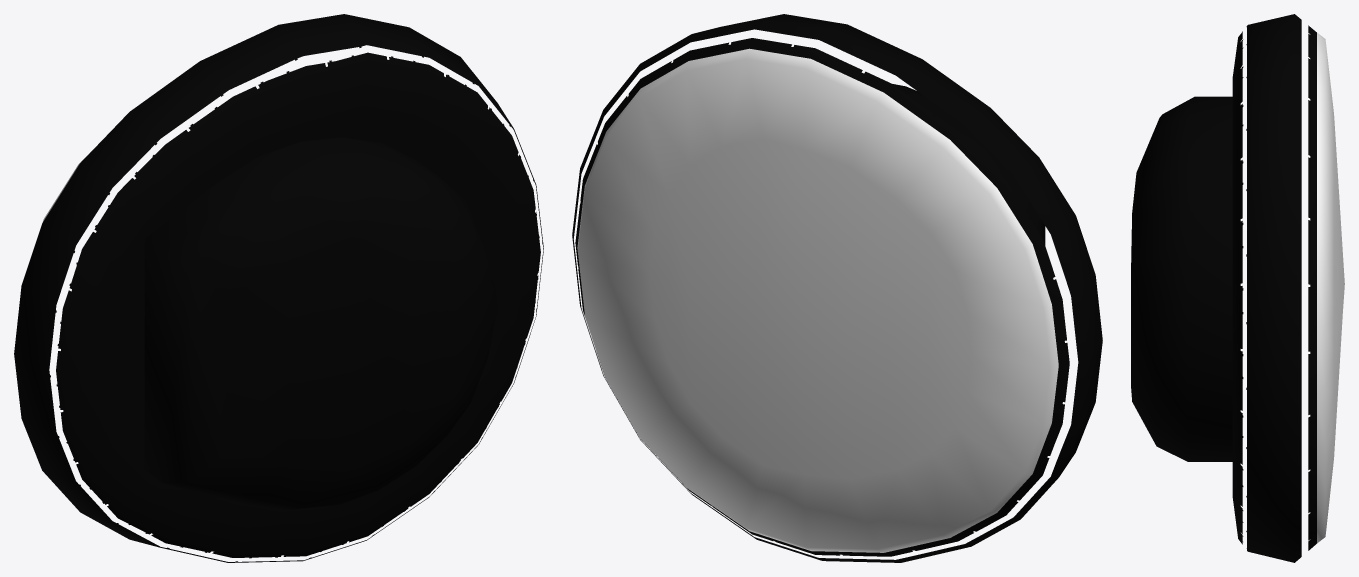
The model's file is box_mitt__box_mitt_R.glb.
The picture shows the model from 3 angles, left to right: view 1: azimuth 30°, elevation 25°; view 2: azimuth 150°, elevation 25°; view 3: azimuth 270°, elevation 25°; orthographic projection. The views are drawn at different scales.
Parts seen in each view (by area): view 1: polygon0; view 2: polygon1, polygon0; view 3: polygon0, polygon1.
Part boxes in pixels (box(x1,y1,x2,y2)): polygon0: box(14, 14, 543, 562); polygon1: box(577, 48, 1058, 552); polygon0: box(572, 14, 1102, 562); polygon0: box(1131, 14, 1316, 562); polygon1: box(1317, 33, 1344, 543).
Bounding box in the file's own units: 3.83 × 3.76 × 1.46.
Materials: 2 (1 with a texture image).
